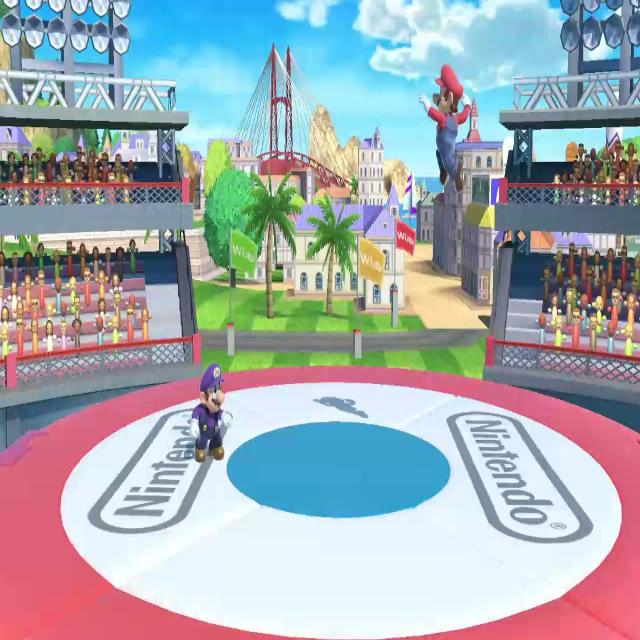Mario-NB: (415, 54, 476, 200)
Mario-jump: (188, 360, 235, 465)
